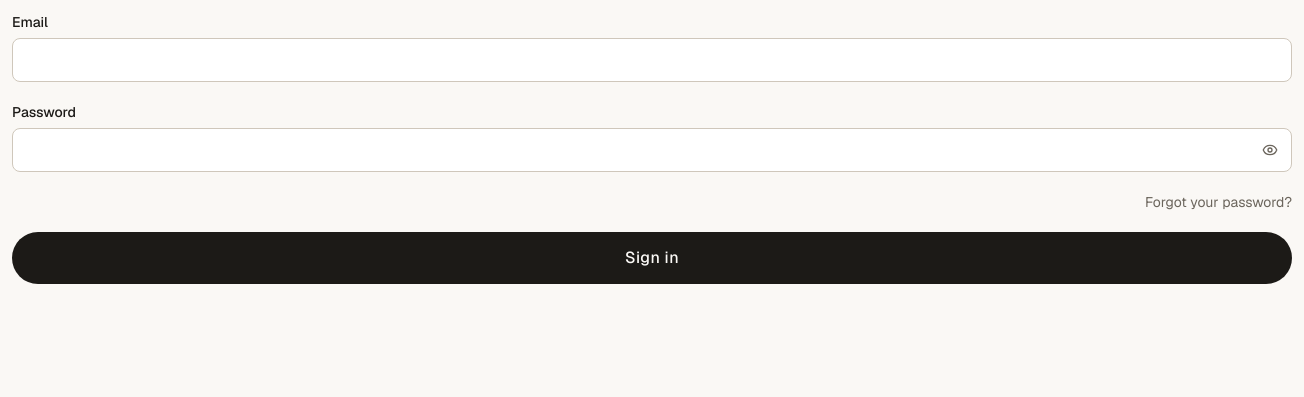
Test: LoginForm › shows field errors next to the right input and keeps the typed email
Click the button "Sign in".
click(652, 258)  # box x1=12 y1=232 x2=1292 y2=284
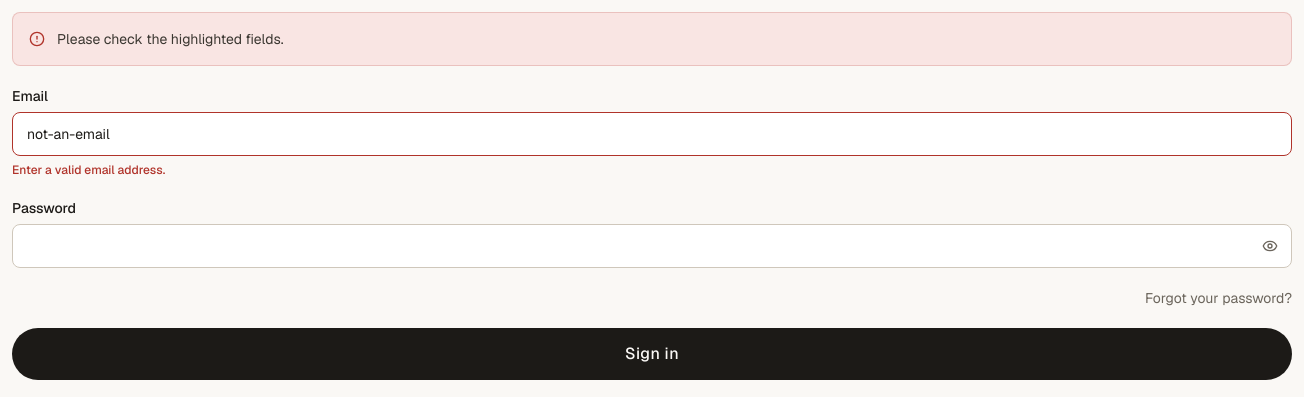
Now the field labelled "Email" holds "not-an-email", box x1=12 y1=112 x2=1292 y2=156
